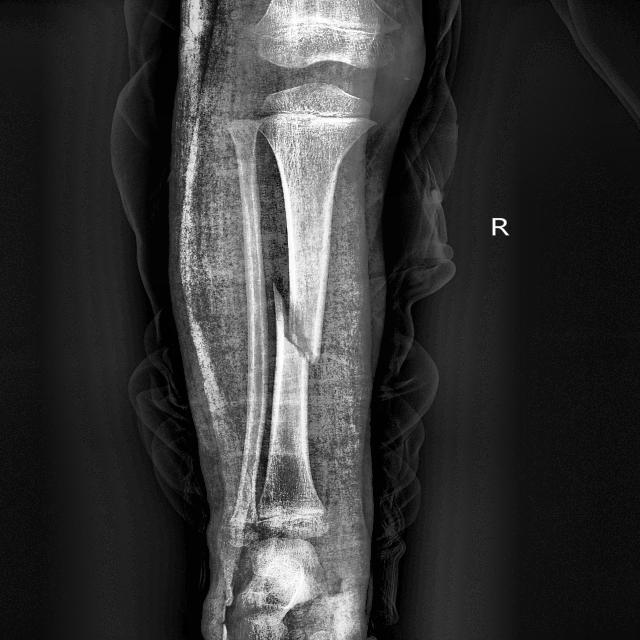Fracture: (260, 257, 338, 383)
